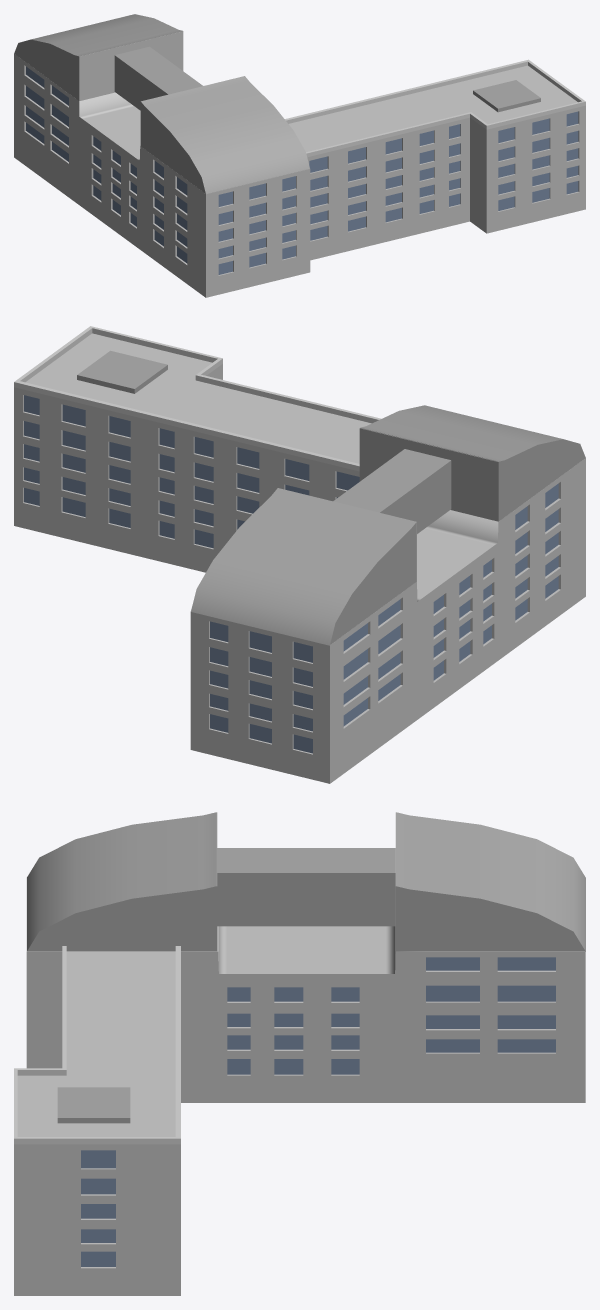
The model's file is SchoolBuilding.fbx.
3 views of the same model, one above another, from view 1: azimuth 30°, elevation 25°; view 2: azimuth 150°, elevation 25°; view 3: azimuth 270°, elevation 25° (orthographic). The views are drawn at different scales.
Parts seen in each view (by area): view 1: SpecialBuilding17; view 2: SpecialBuilding17; view 3: SpecialBuilding17.
Boxes of the visible parts, x1,y1,x2,y2 form: SpecialBuilding17: (14,14,585,297); SpecialBuilding17: (14,326,585,783); SpecialBuilding17: (14,812,585,1295).
Bounding box in the file's own units: 8.71 × 3.3 × 7.88.
